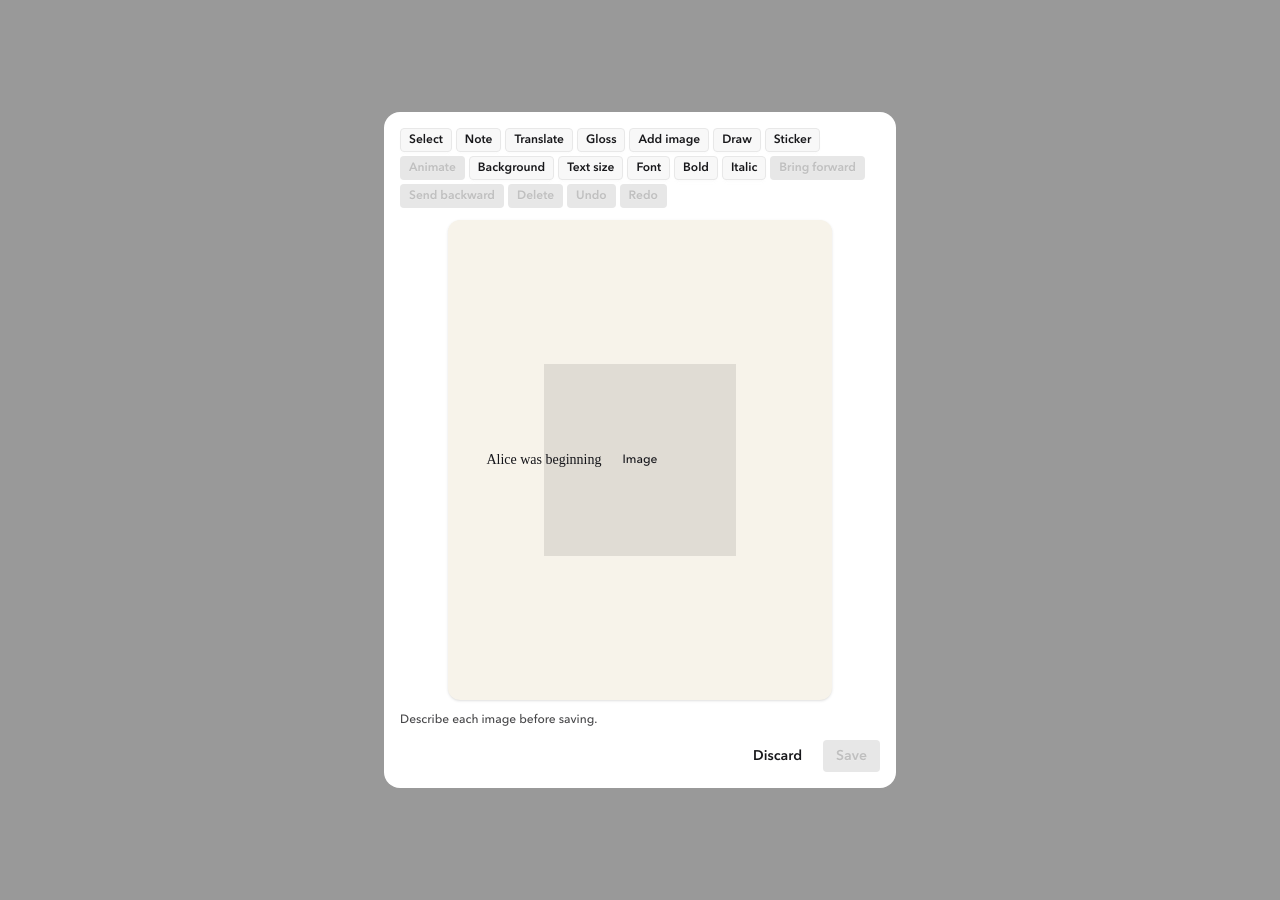
ComposeSurface › disables Save while an artwork has no alt
The image size is (1280, 900).
Check: the button "Save" is disabled, box [823,740,880,772]
Press the mouse on the element showing "Image": (640, 460) [544,364,736,556]
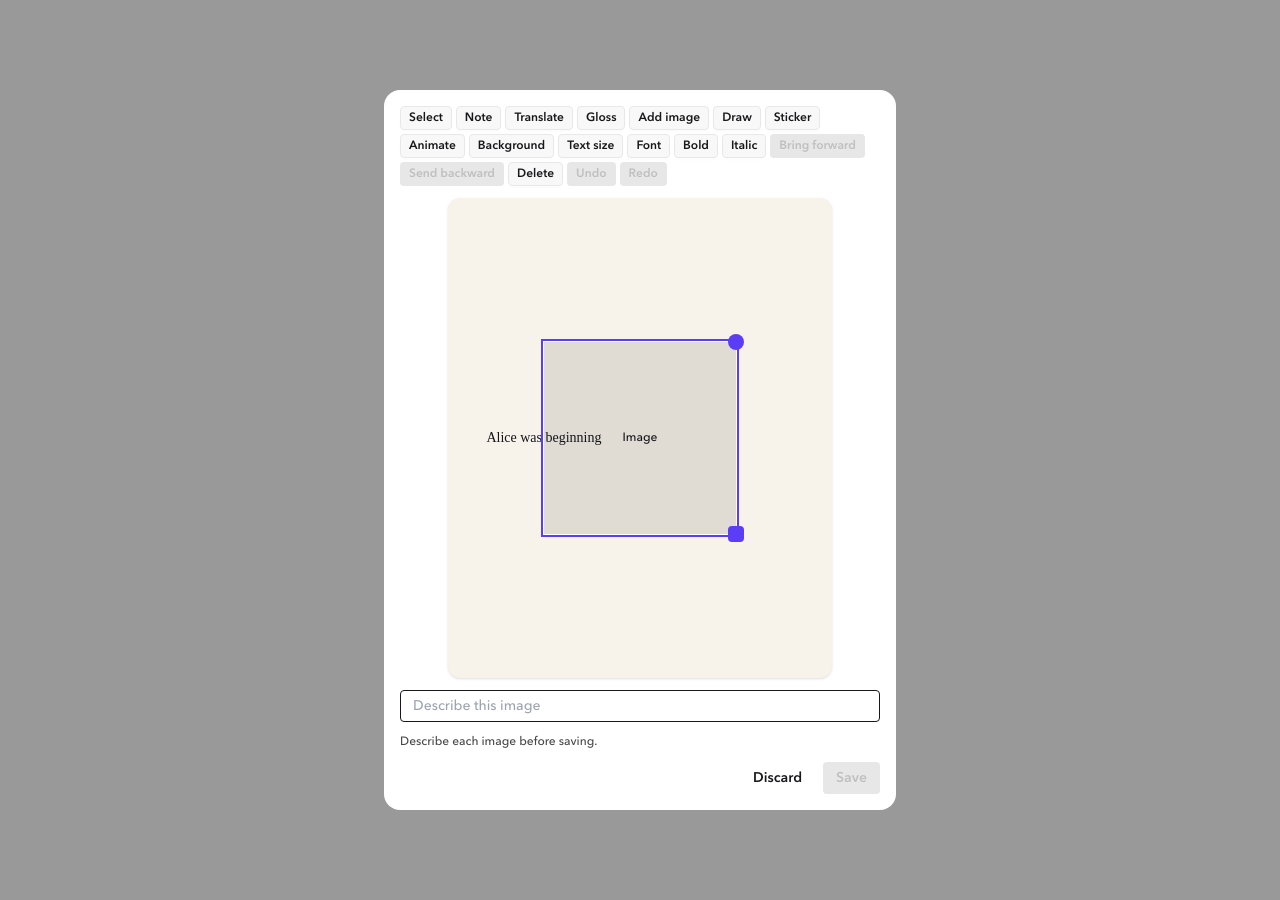
In the field labelled "Describe this image": (640, 706) [400,690,880,722], type "A rabbit"
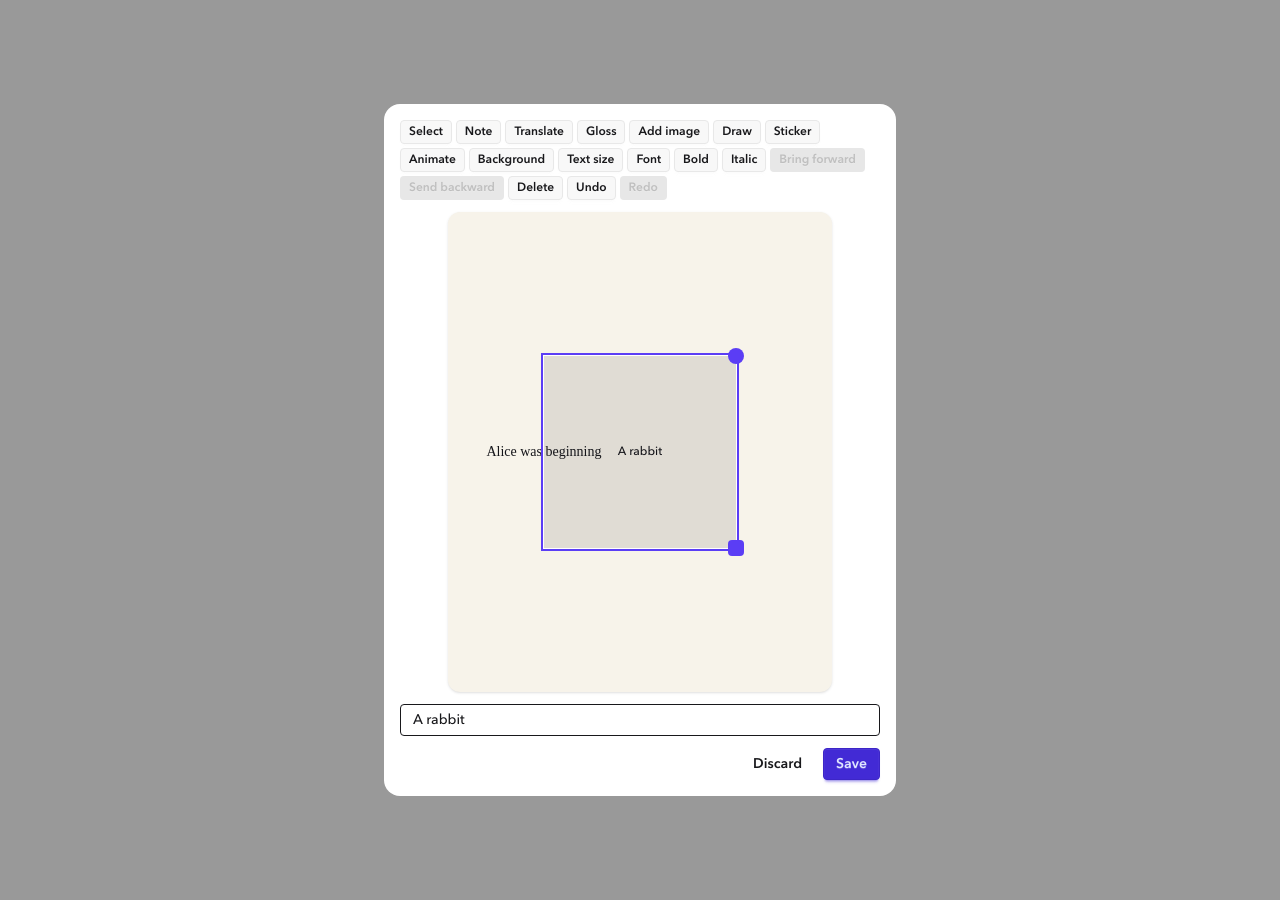
Check: the button "Save" is enabled, box [823,748,880,780]
